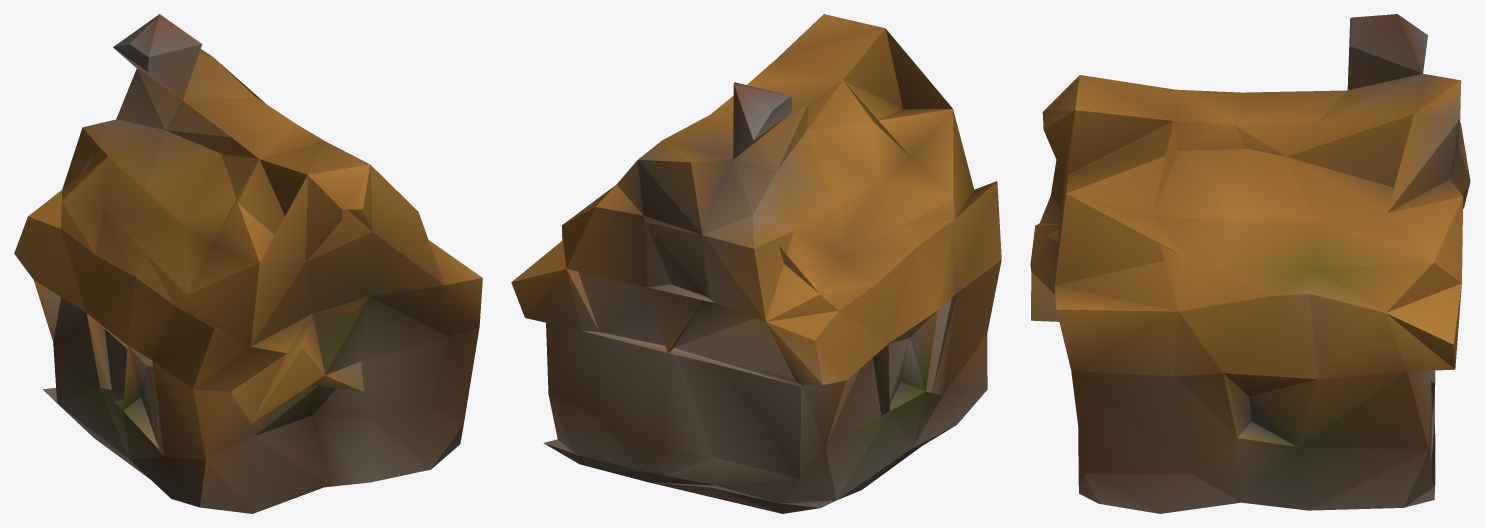
File: village-cottage.glb
The picture shows the model from 3 angles, left to right: view 1: azimuth 30°, elevation 25°; view 2: azimuth 150°, elevation 25°; view 3: azimuth 270°, elevation 25°; orthographic projection. The views are drawn at different scales.
Visible parts, largest first — view 1: village-cottage-far; view 2: village-cottage-far; view 3: village-cottage-far.
Part boxes in pixels (box(x1,y1,x2,y2)): village-cottage-far: box(14, 14, 482, 513); village-cottage-far: box(511, 14, 1001, 513); village-cottage-far: box(1030, 14, 1470, 513).
Size of the model in its own units: 5.68 by 6.88 by 6.6.
